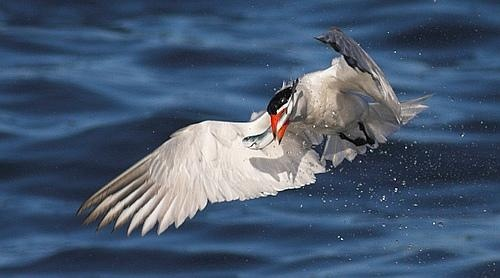bird: (80, 27, 433, 242)
